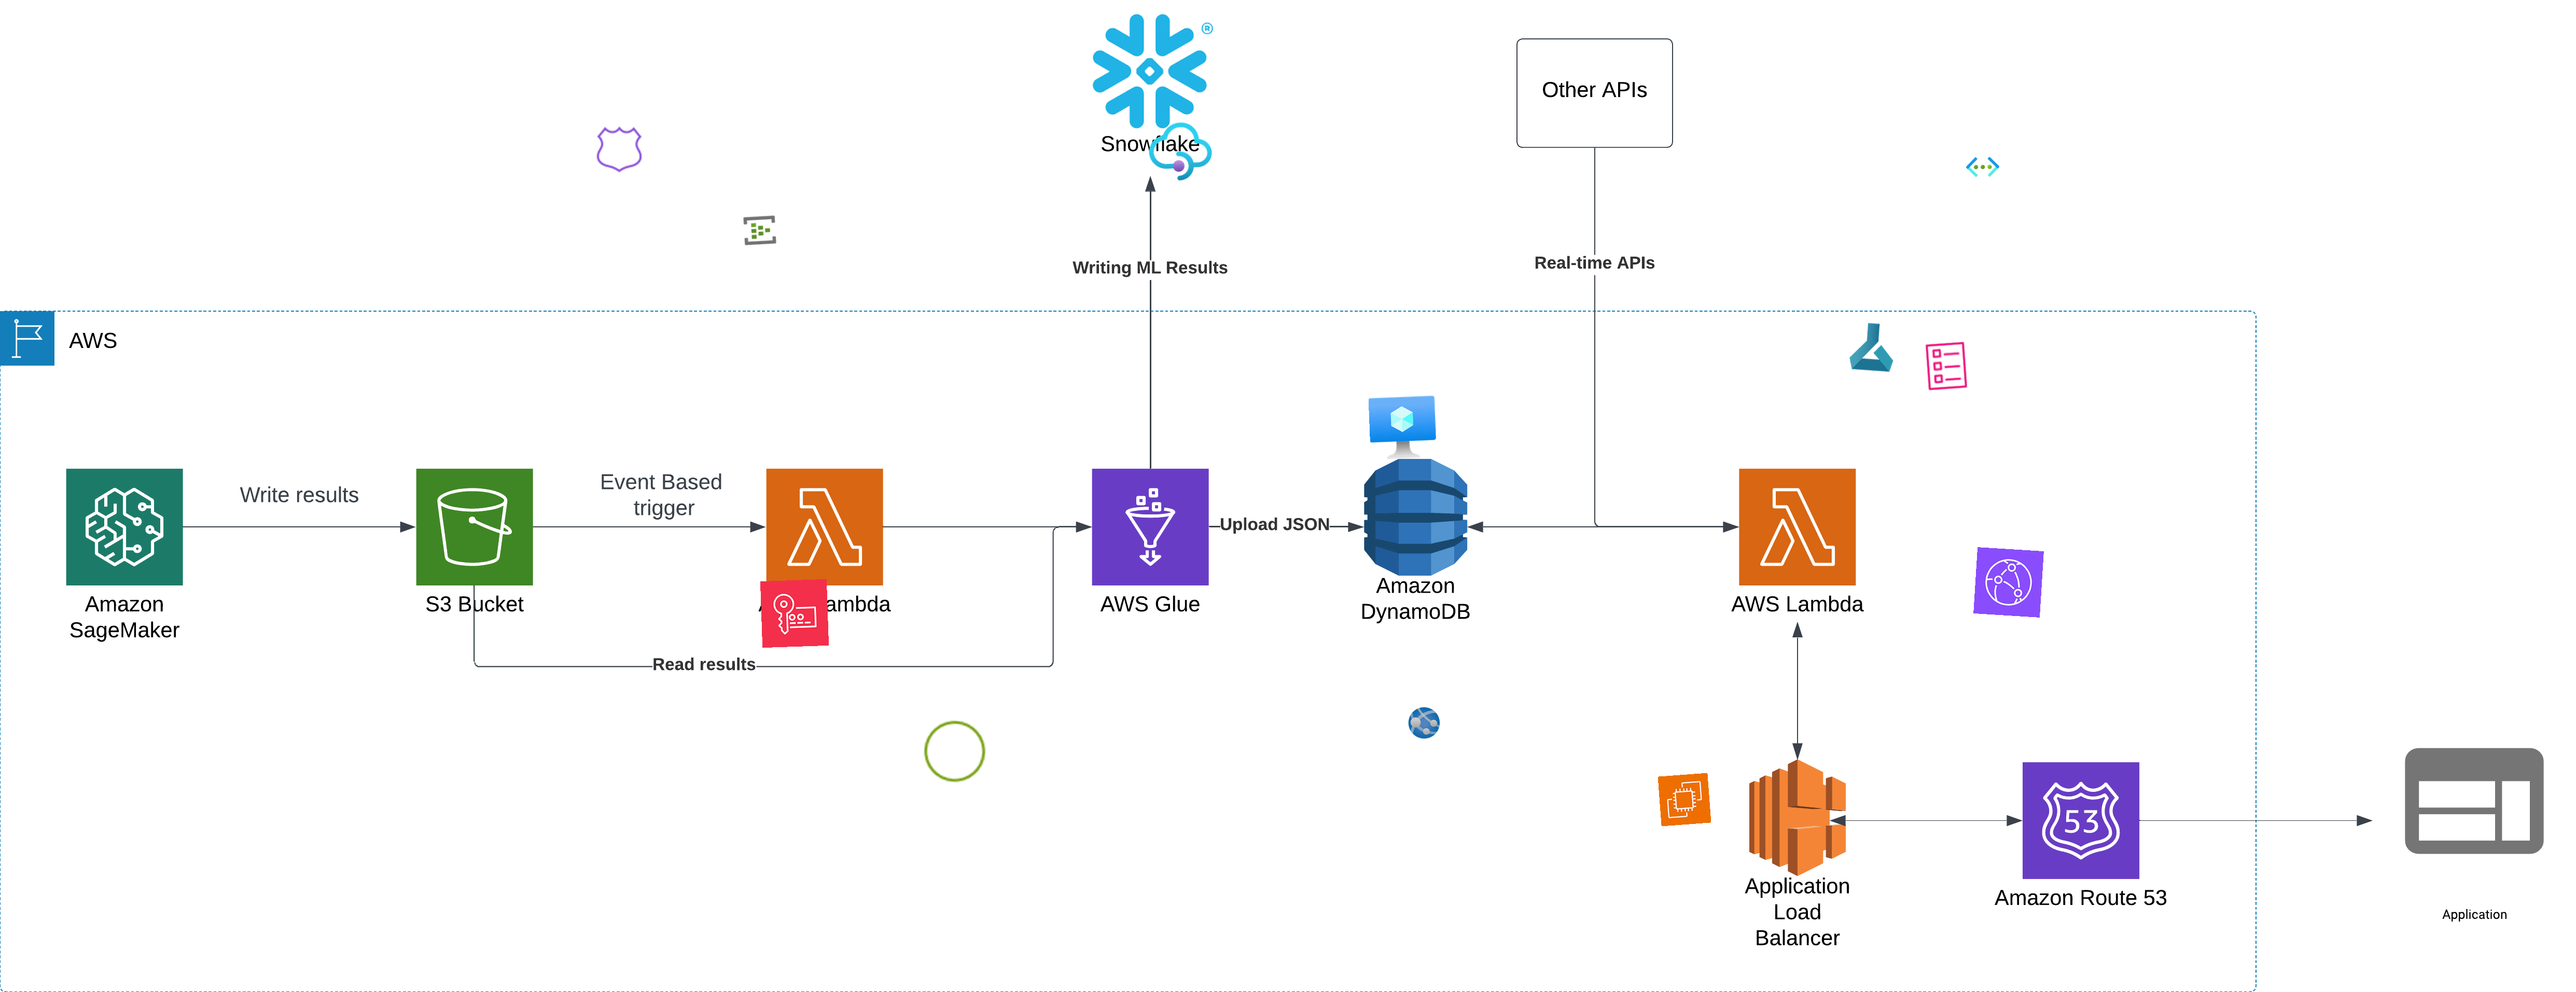aws_amazon_cloudfront: (1973, 547, 2044, 618)
aws_amazon_ec2: (1658, 772, 1712, 826)
aws_cloudformation_template: (1919, 338, 1973, 393)
aws_key_management_service: (759, 578, 830, 649)
aws_route_53_hosted_zone: (595, 123, 646, 174)
aws_simple_storage_service_object: (918, 716, 991, 787)
azure_api_management_services: (1145, 117, 1216, 187)
azure_app_services: (1406, 706, 1441, 741)
azure_event_hubs: (743, 212, 777, 248)
azure_machine_learning: (1845, 320, 1899, 374)
azure_virtual_machine: (1368, 394, 1438, 465)
azure_virtual_networks: (1965, 149, 1999, 184)
